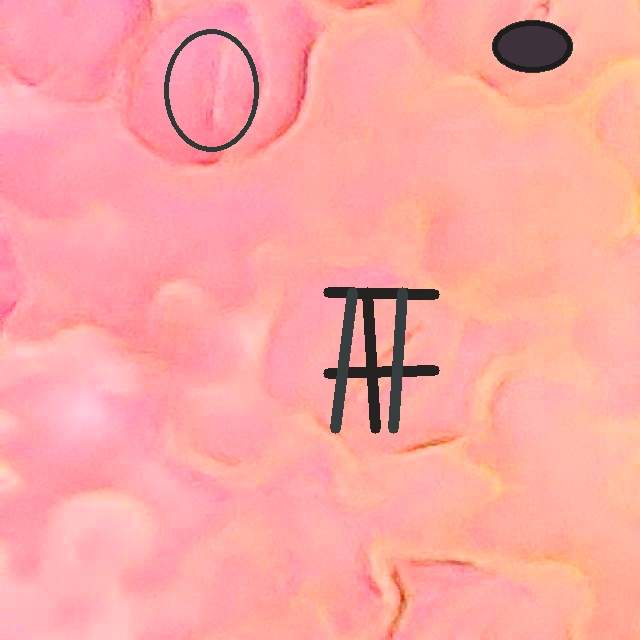open: (323, 287, 438, 433), (163, 29, 259, 150), (491, 20, 572, 71)
